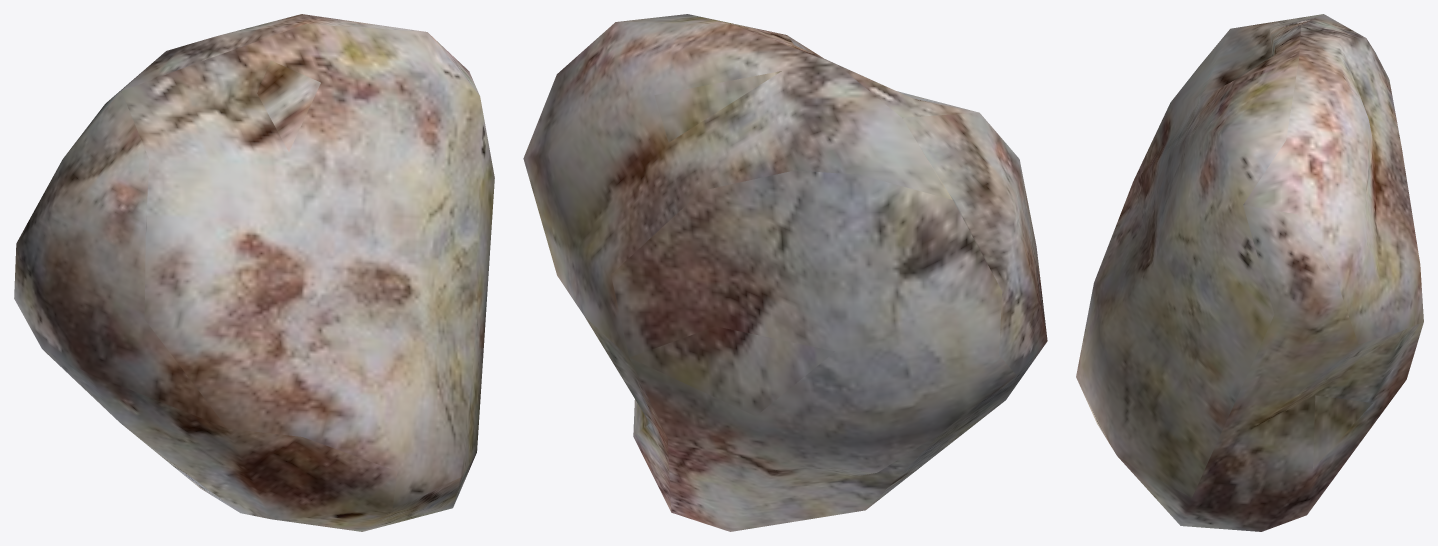
Rendered from rock.glb.
3 renders of one model, left to right at view 1: azimuth 30°, elevation 25°; view 2: azimuth 150°, elevation 25°; view 3: azimuth 270°, elevation 25°, orthographic. The views are drawn at different scales.
Parts seen in each view (by area): view 1: rock047_lod4; view 2: rock047_lod4; view 3: rock047_lod4.
Part boxes in pixels (<box>): rock047_lod4: <box>14,14,494,531</box>; rock047_lod4: <box>523,14,1047,531</box>; rock047_lod4: <box>1076,14,1423,531</box>.
Size of the model in its own units: 1 by 1.02 by 0.7203.
Materials: 1 (1 with a texture image).
